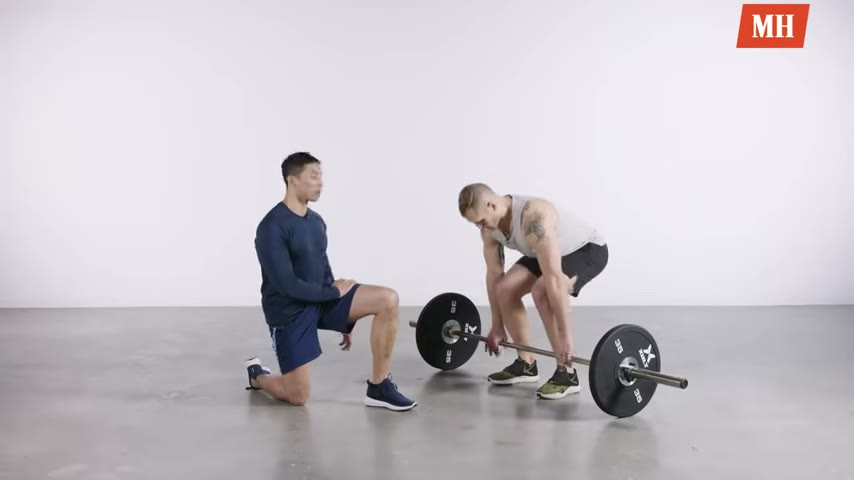barbell_plate_side: (607, 315, 691, 429), (409, 290, 479, 425)
